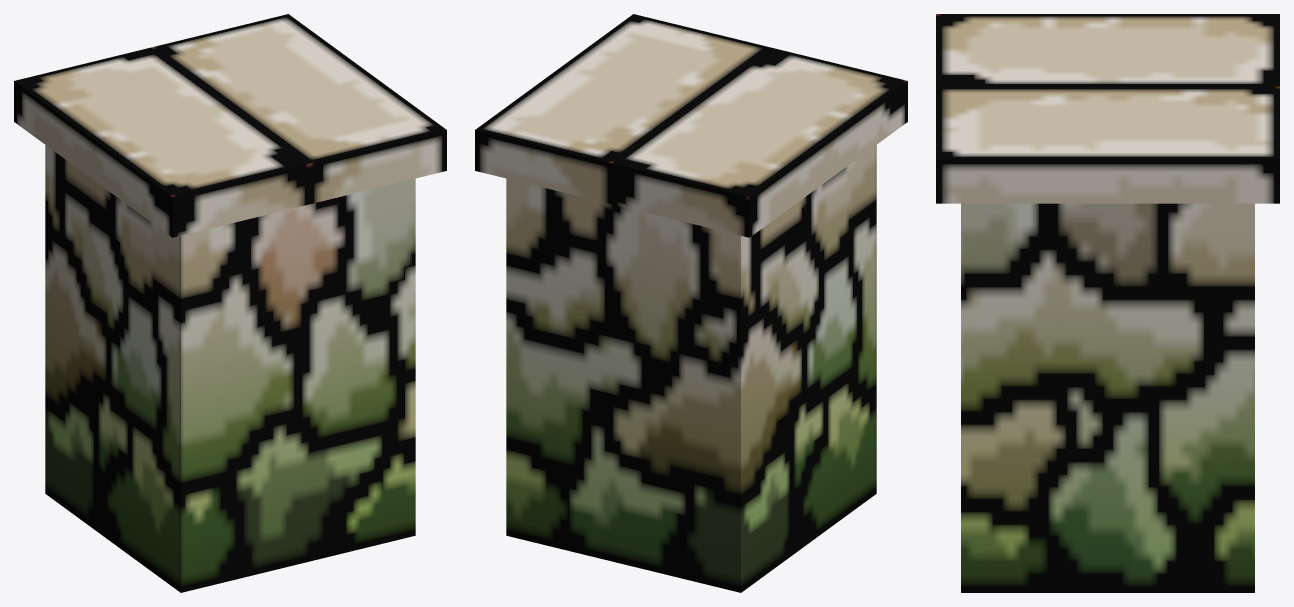
Rendered from deco_wallPillarMoss.FBX.
3 views of the same model, side by side, from view 1: azimuth 30°, elevation 25°; view 2: azimuth 150°, elevation 25°; view 3: azimuth 270°, elevation 25° (orthographic). The views are drawn at different scales.
Parts seen in each view (by area): view 1: deco_wallPillarMoss; view 2: deco_wallPillarMoss; view 3: deco_wallPillarMoss.
Part boxes in pixels (left/top/right/bottom): deco_wallPillarMoss: left=14, top=14, right=446, bottom=592; deco_wallPillarMoss: left=475, top=14, right=907, bottom=592; deco_wallPillarMoss: left=936, top=14, right=1279, bottom=592.
Bounding box in the file's own units: 0.8769 × 1.25 × 0.8769.
Materials: 1 (1 with a texture image).
